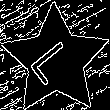L_NE: (28, 33, 84, 88)
